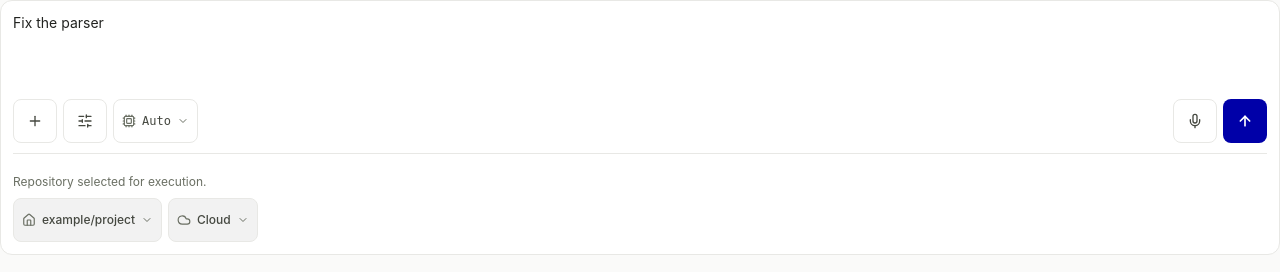
Scenario: keeps Local unavailable with no compatible paired computers
Click the button with aria-label "Run on: Cloud": coordinates (213, 220) [168,198,258,242]
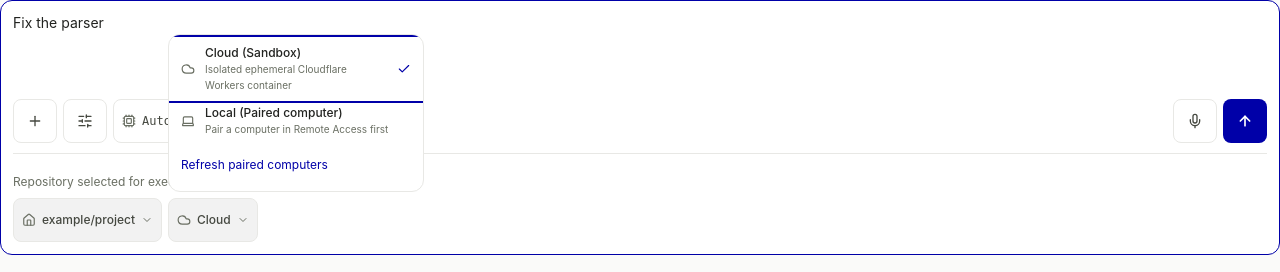
Expected: the menu item "Local (Paired computer)" is disabled, [169,99,423,143]
Expected: the button "Refresh paired computers" is shown, [169,143,423,187]
